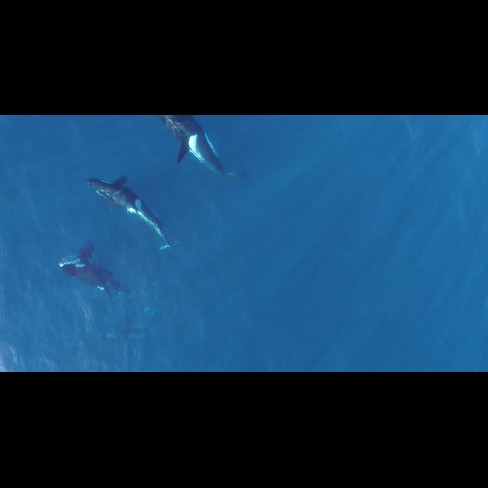orca: (78, 162, 180, 257), (157, 115, 255, 188), (44, 236, 131, 299)
